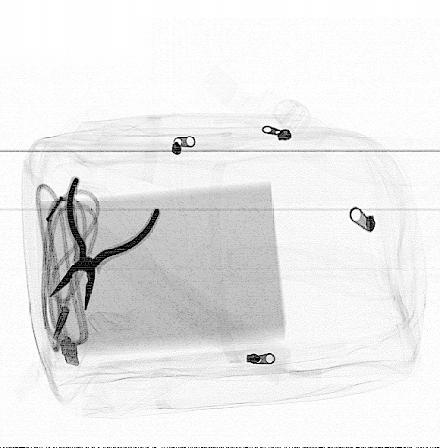Pliers: (49, 176, 164, 313)
